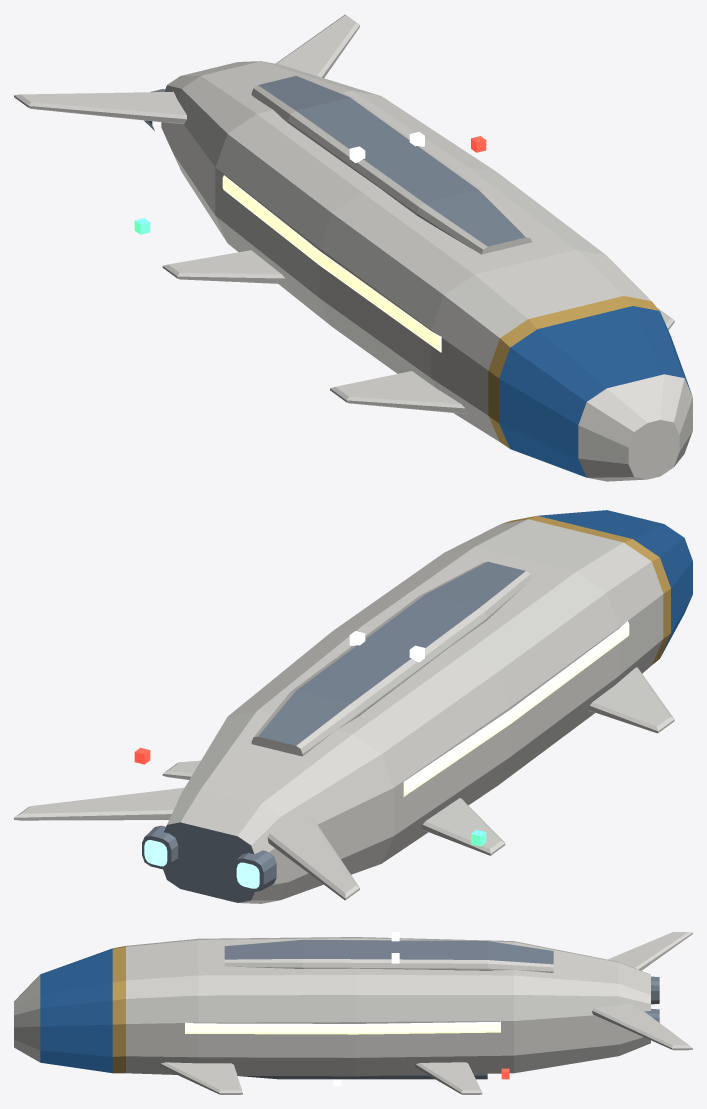
File: dolphin.glb
3 views of the same model, one above another, from view 1: azimuth 30°, elevation 25°; view 2: azimuth 150°, elevation 25°; view 3: azimuth 270°, elevation 25° (orthographic). The views are drawn at different scales.
Visible parts, largest first — view 1: dolphin; view 2: dolphin; view 3: dolphin.
Part boxes in pixels (x1,y1,x2,y2): dolphin: (14,14,692,481); dolphin: (14,510,692,903); dolphin: (14,932,692,1094).
Size of the model in its own units: 21.73 by 10.6 by 51.6.
